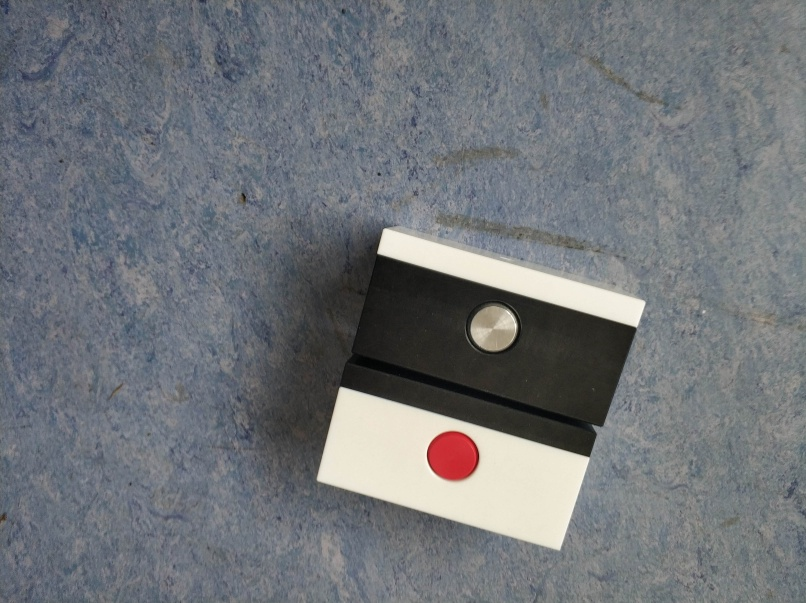black+white+red: (310, 356, 598, 556)
white+black+silver: (355, 223, 651, 429)
